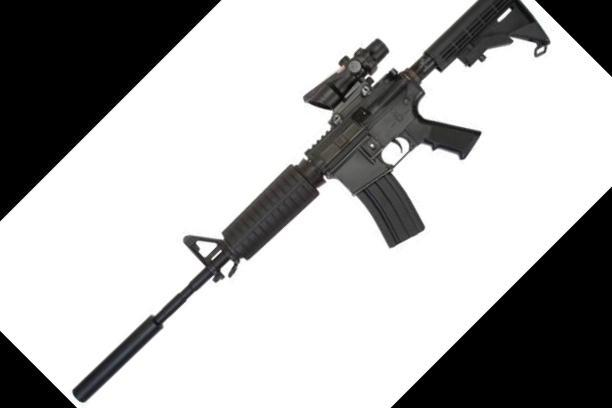larga: (71, 1, 552, 404)
